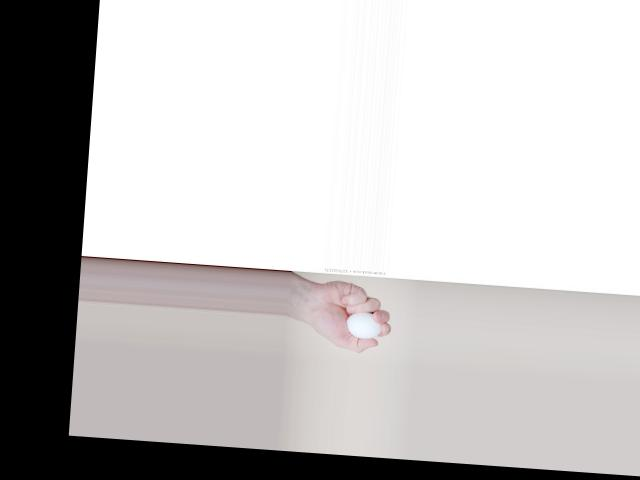egg: (344, 311, 381, 339)
